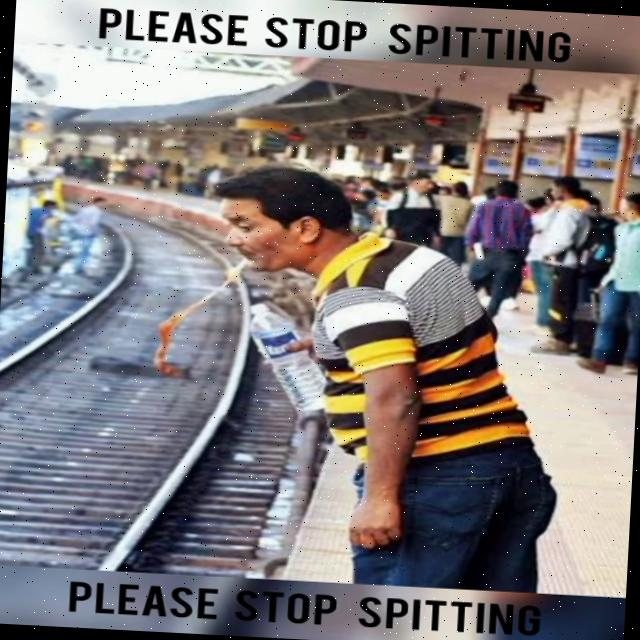spit: (120, 175, 275, 418)
